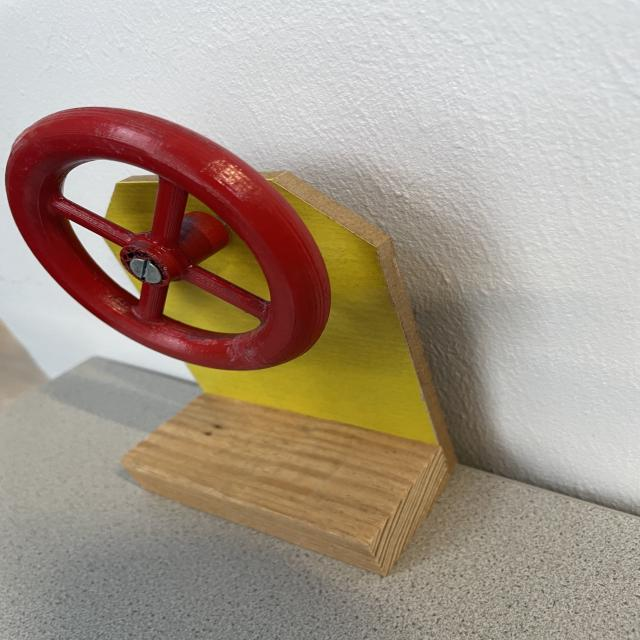Wheel Handle Valve Threaded: (0, 96, 342, 372)
